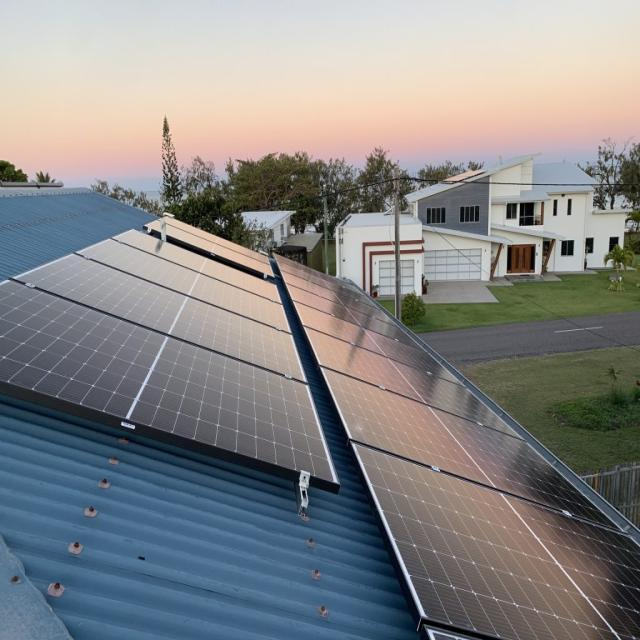Photovoltaic-Panel: (279, 260, 640, 638), (0, 230, 339, 491)
